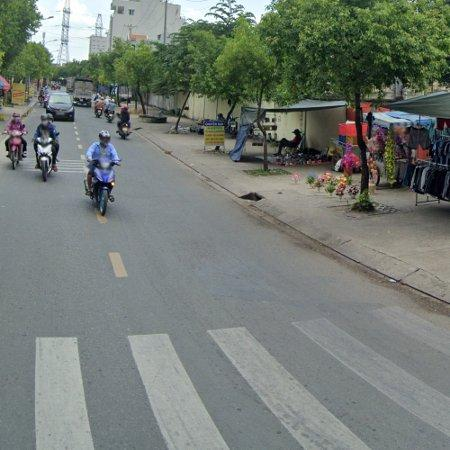crosswalks: (31, 304, 450, 450)
